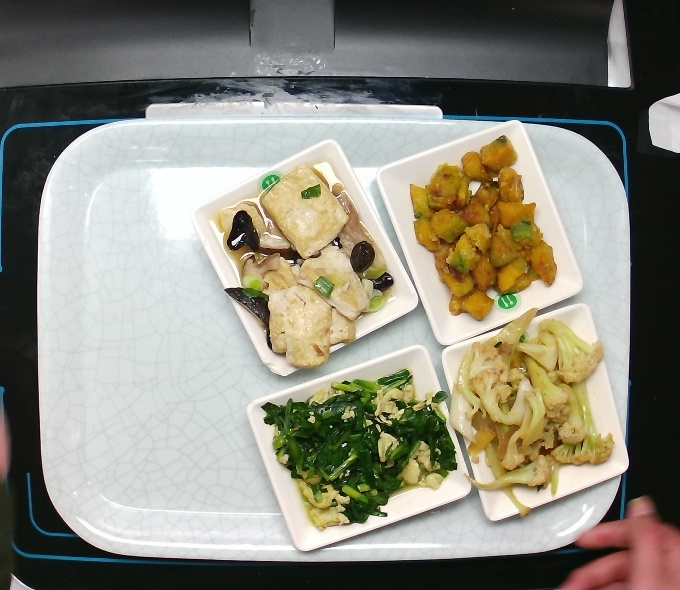wcq-DanHuangNanGua: (405, 129, 562, 324)
wcq-JiaChangDouFu: (211, 159, 395, 368)
wcq-JiuCaiJiDan: (255, 364, 461, 531)
wcq-QiuCai: (450, 308, 617, 515)
